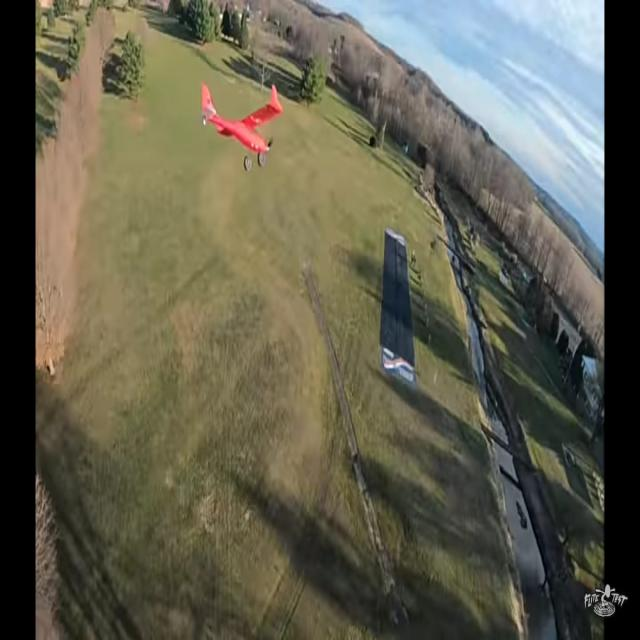iha: (231, 46, 252, 77)
